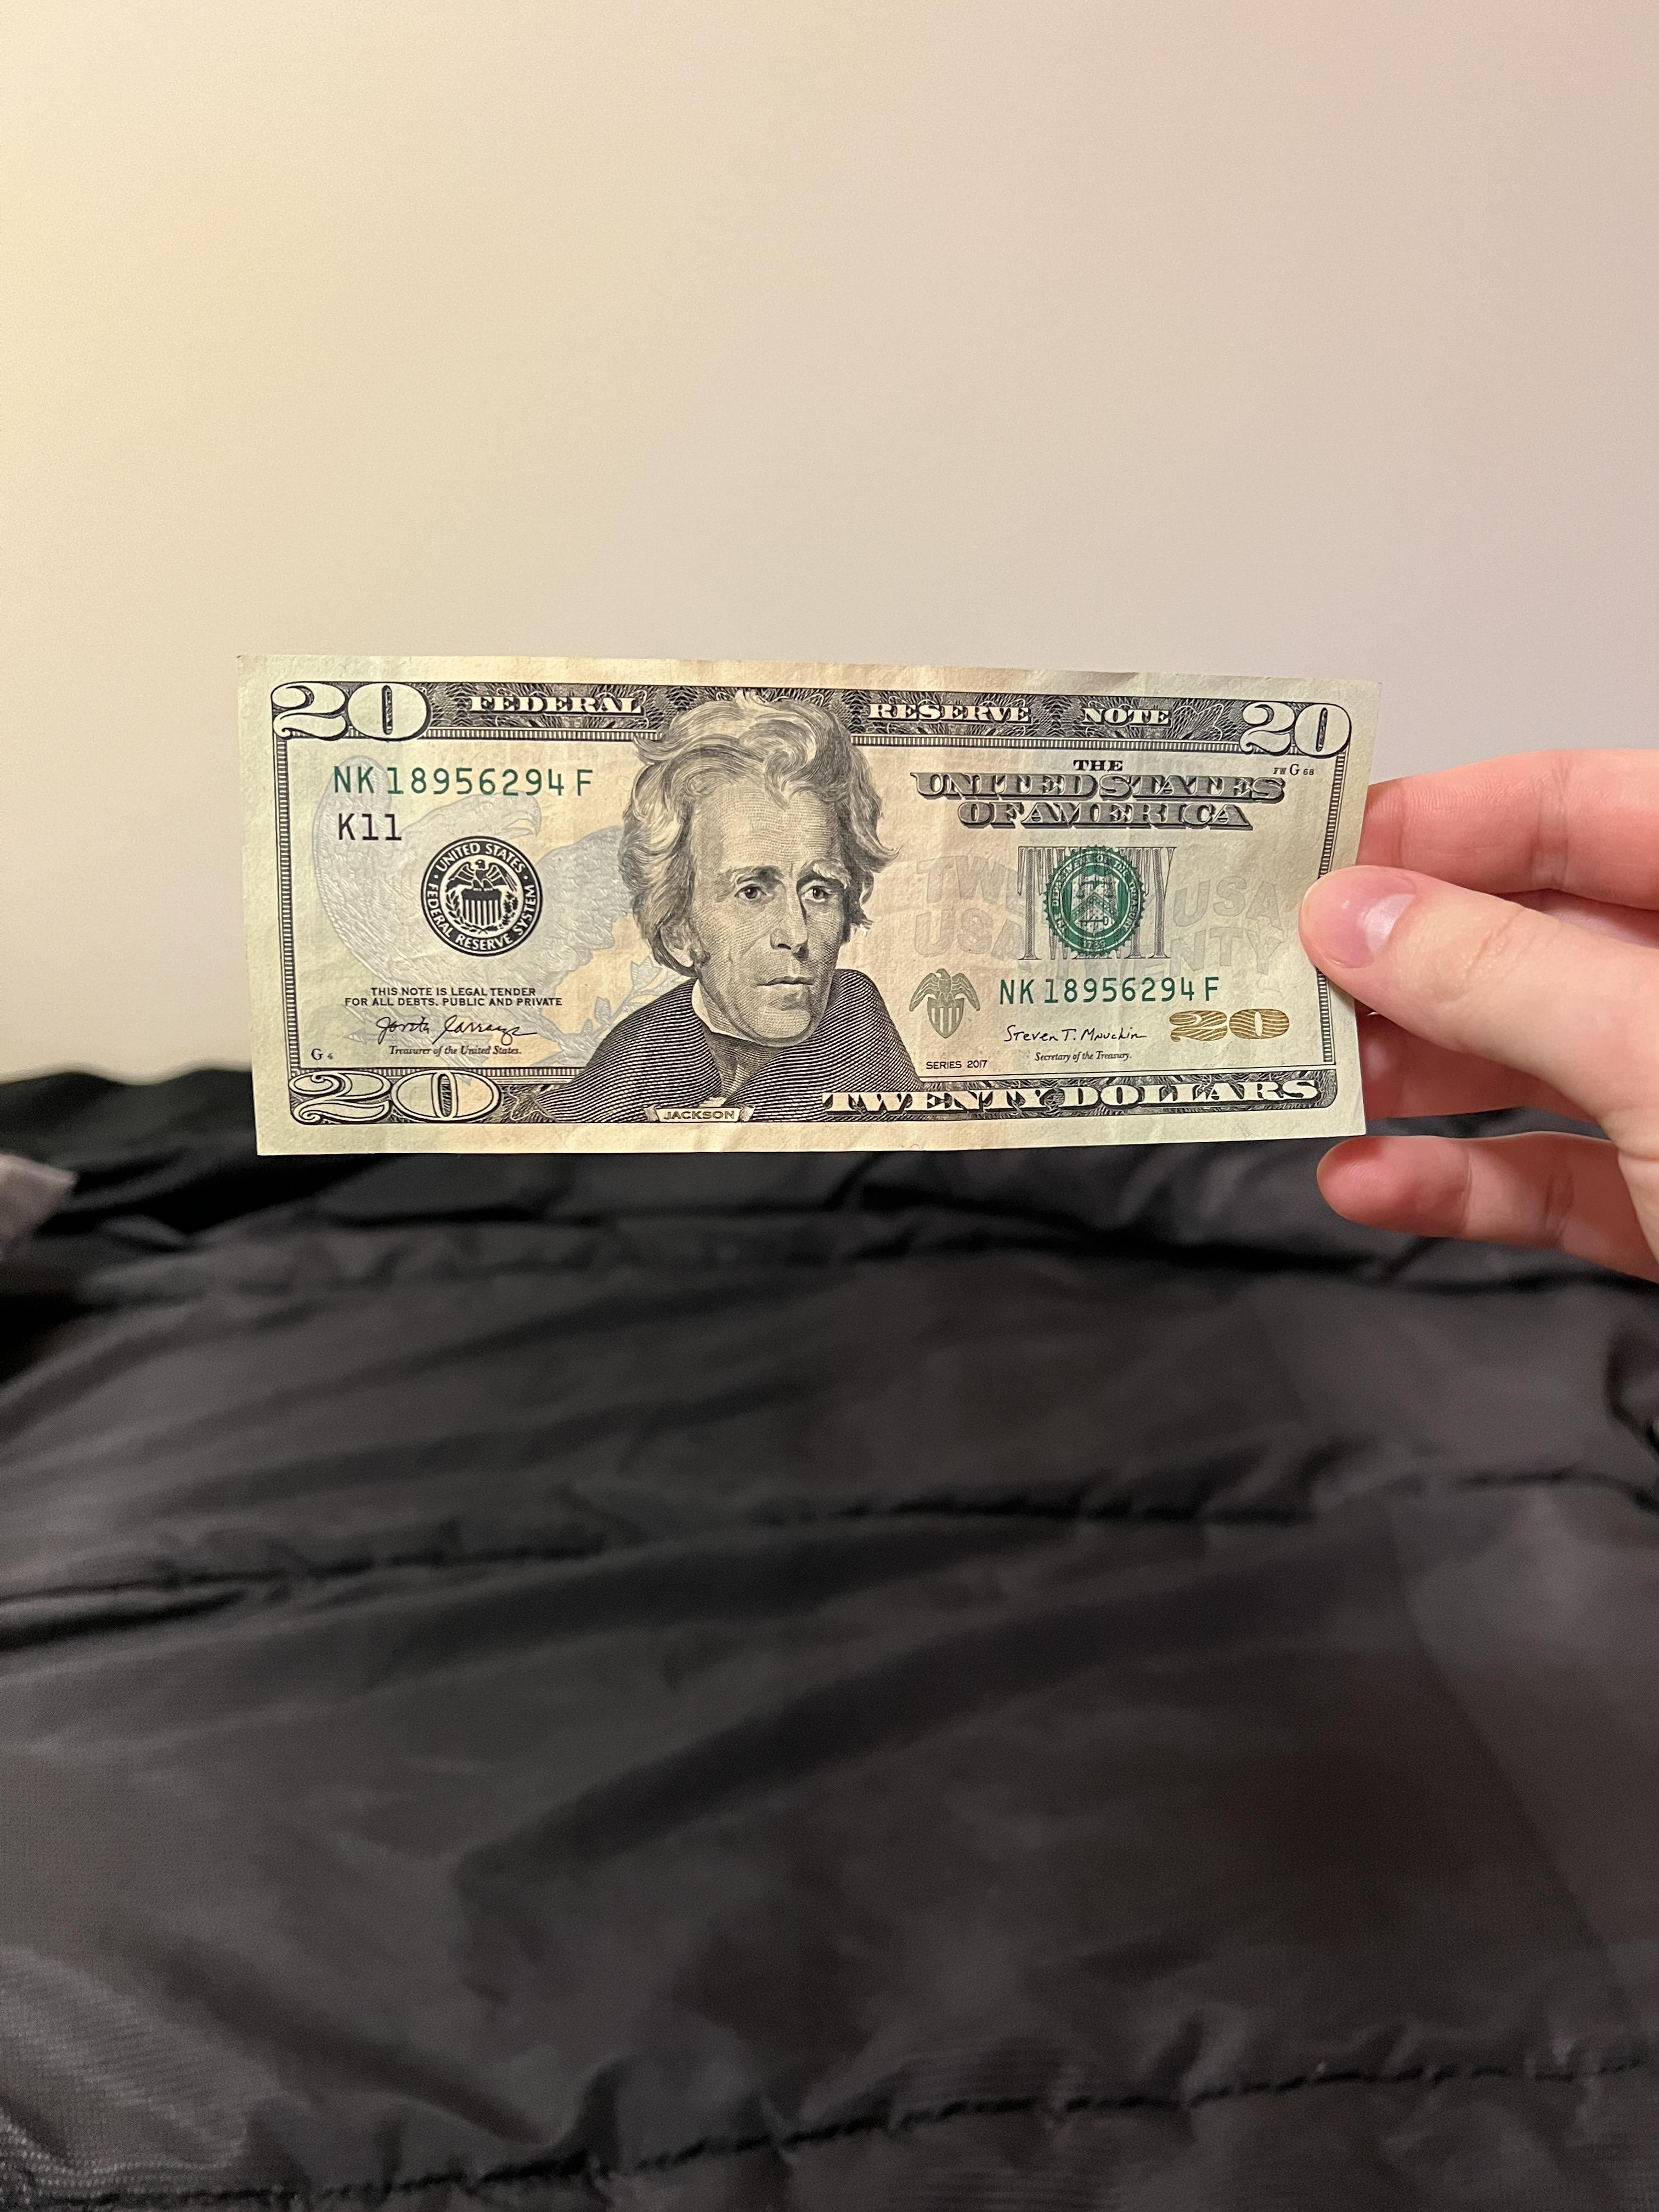TwentyBill: (211, 636, 1385, 1148)
